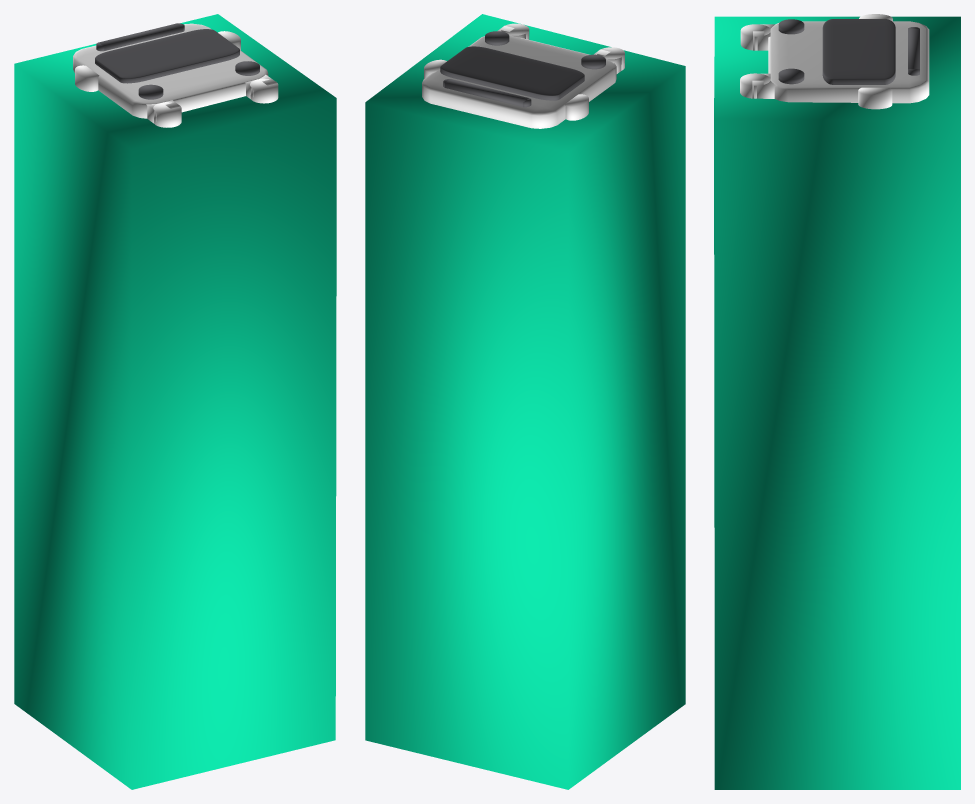
File: busStop.glb
3 renders of one model, left to right at view 1: azimuth 30°, elevation 25°; view 2: azimuth 150°, elevation 25°; view 3: azimuth 270°, elevation 25°, orthographic. The views are drawn at different scales.
Visible parts, largest first — view 1: Node1, Node2, Node10, Node9, Node5, Node6; view 2: Node1, Node2, Node10, Node9; view 3: Node1, Node2, Node10, Node6, Node5, Node4, Node9.
Part boxes in pixels (bbox=[...]): Node1: bbox=[14, 14, 336, 789]; Node2: bbox=[73, 23, 268, 118]; Node10: bbox=[95, 29, 239, 83]; Node9: bbox=[96, 23, 184, 51]; Node5: bbox=[146, 100, 181, 127]; Node6: bbox=[245, 74, 278, 103]; Node1: bbox=[365, 14, 685, 789]; Node2: bbox=[422, 35, 616, 128]; Node10: bbox=[440, 46, 584, 100]; Node9: bbox=[443, 79, 531, 107]; Node1: bbox=[714, 16, 960, 789]; Node2: bbox=[768, 21, 929, 103]; Node10: bbox=[822, 19, 895, 84]; Node6: bbox=[740, 73, 776, 98]; Node5: bbox=[740, 24, 775, 50]; Node4: bbox=[858, 87, 892, 109]; Node9: bbox=[908, 27, 919, 75].
Bounding box in the file's own units: 2.18 × 6.72 × 2.18.
